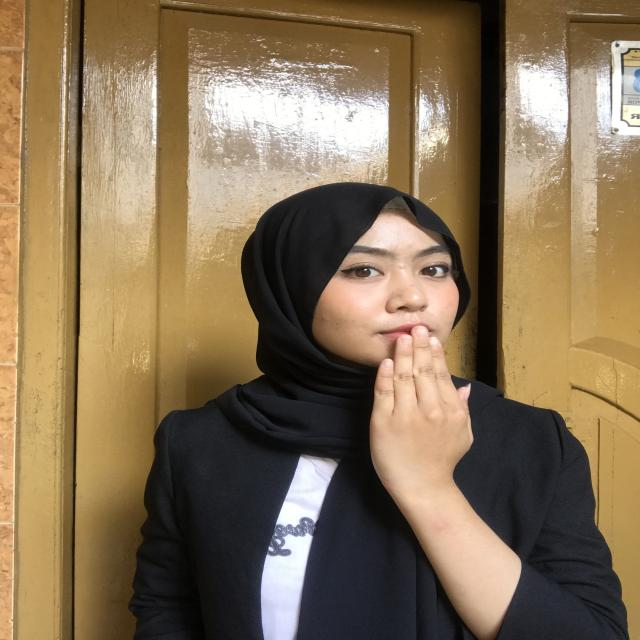ganteng: (370, 322, 486, 522)
